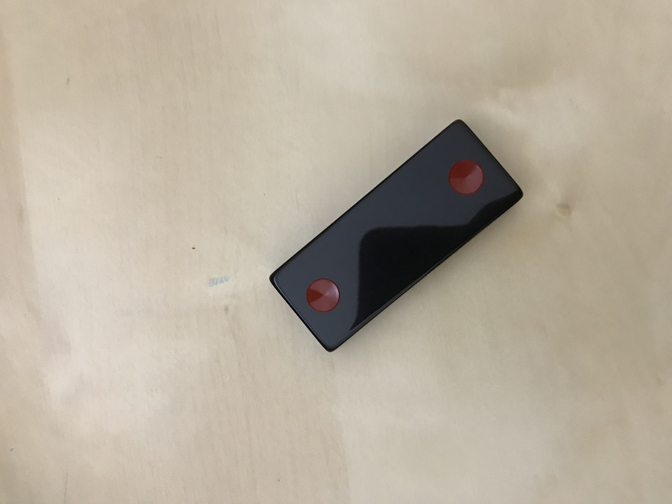earth: (267, 117, 524, 353)
